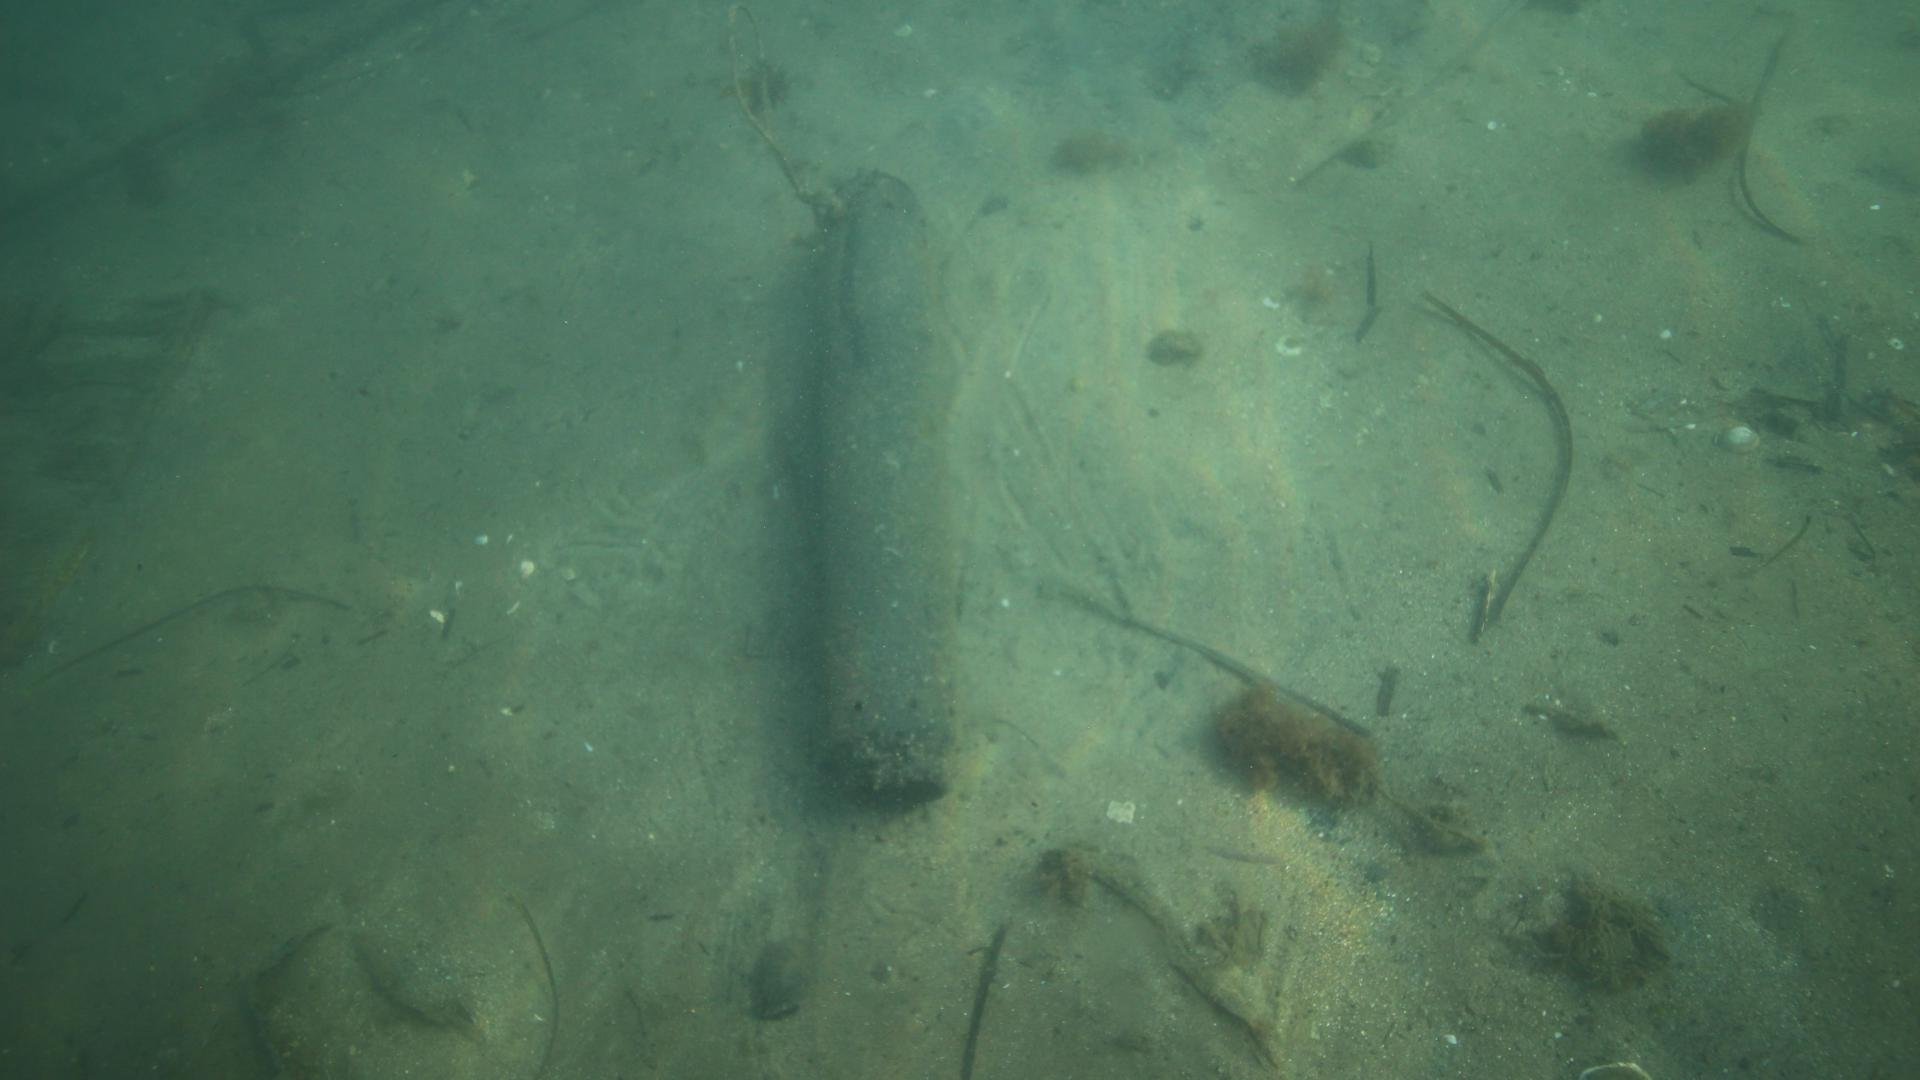bundle of ropes: (727, 42, 832, 218)
eel fish trap: (804, 162, 967, 822)
